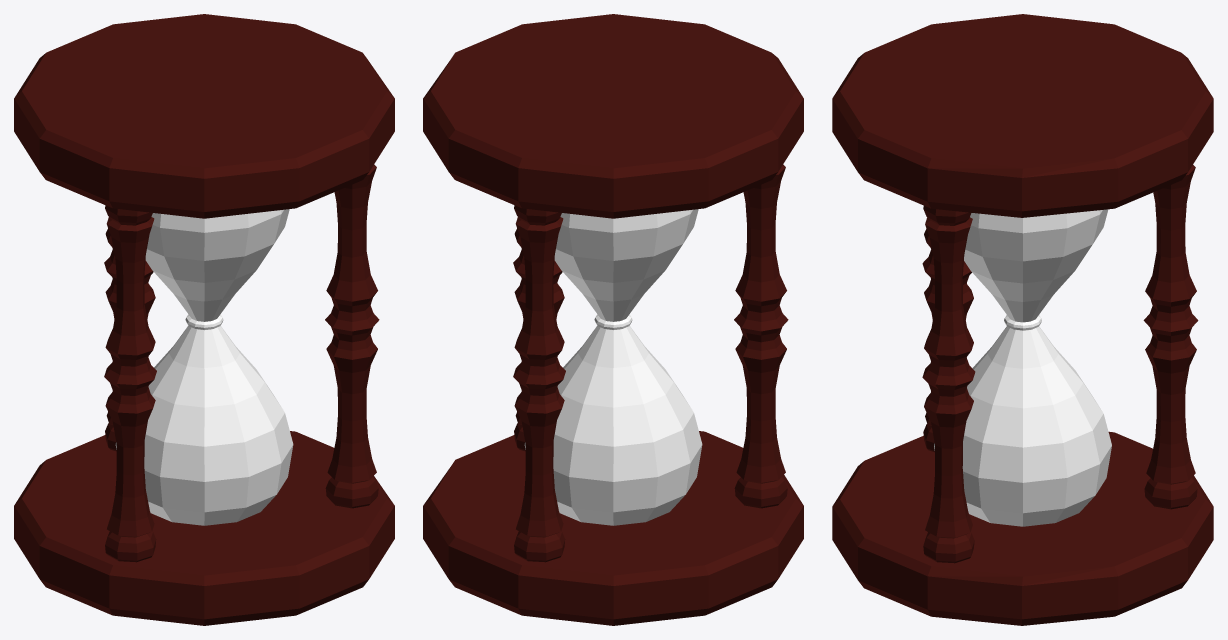
Rendered from hourglass.obj.
3 renders of one model, left to right at view 1: azimuth 30°, elevation 25°; view 2: azimuth 150°, elevation 25°; view 3: azimuth 270°, elevation 25°, orthographic.
Bounding box in the file's own units: 5.83 × 7.78 × 5.87.
